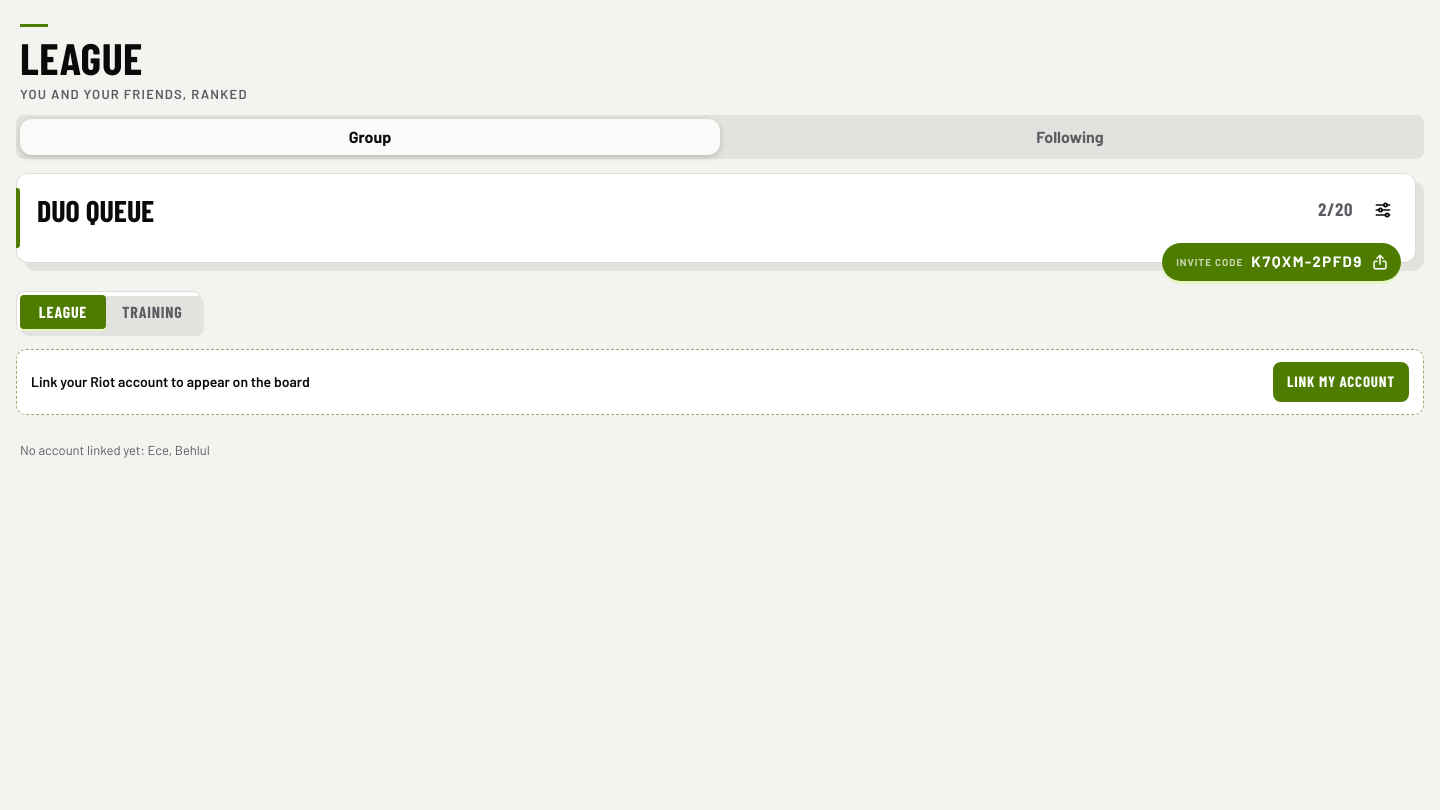
League tab › leaves as a member and stays on the group view, which offers to create or join again
Click the button named "Group settings" at (1383,210), box [1361,188,1405,232]
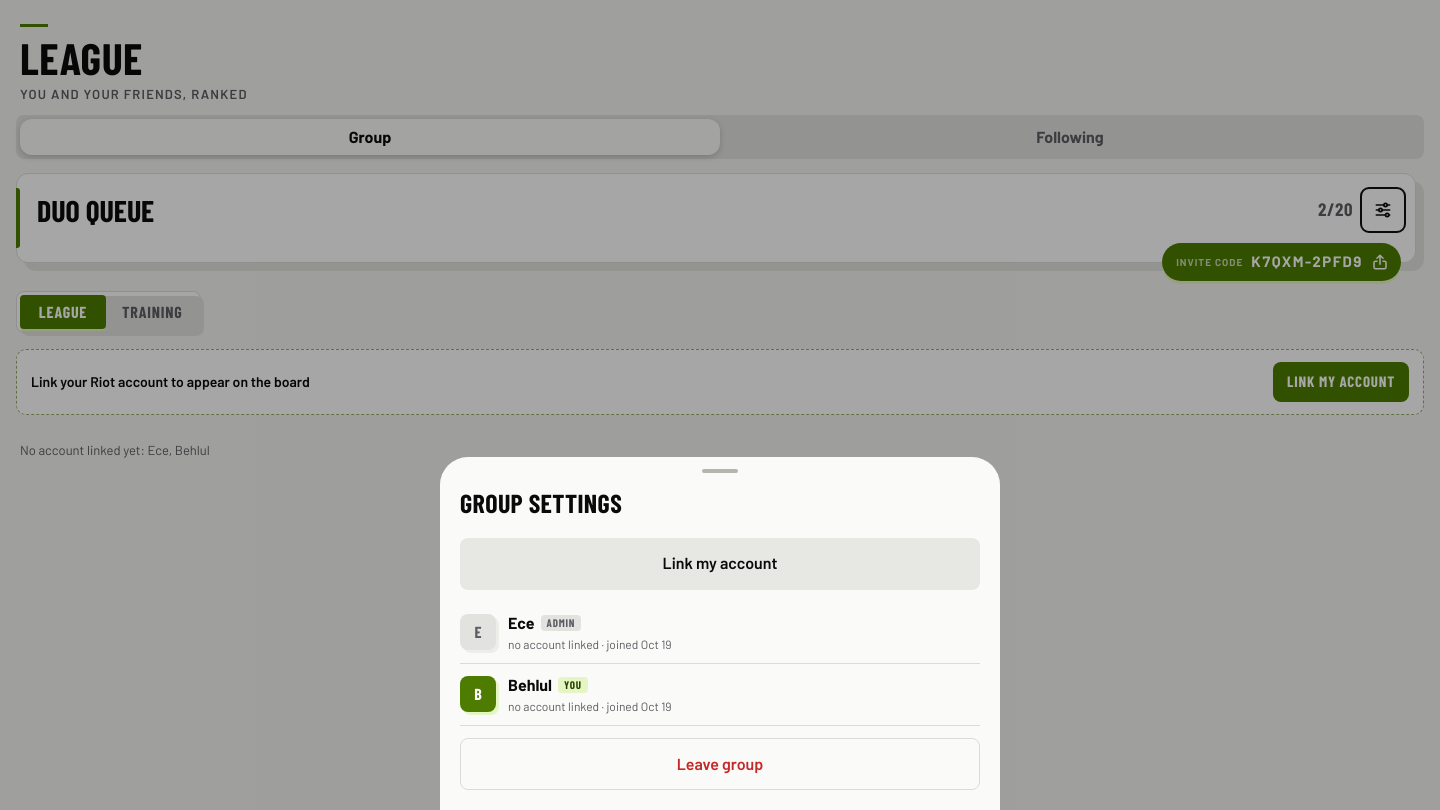
Click the button "Leave group" at (720,764), box [460,738,980,790]
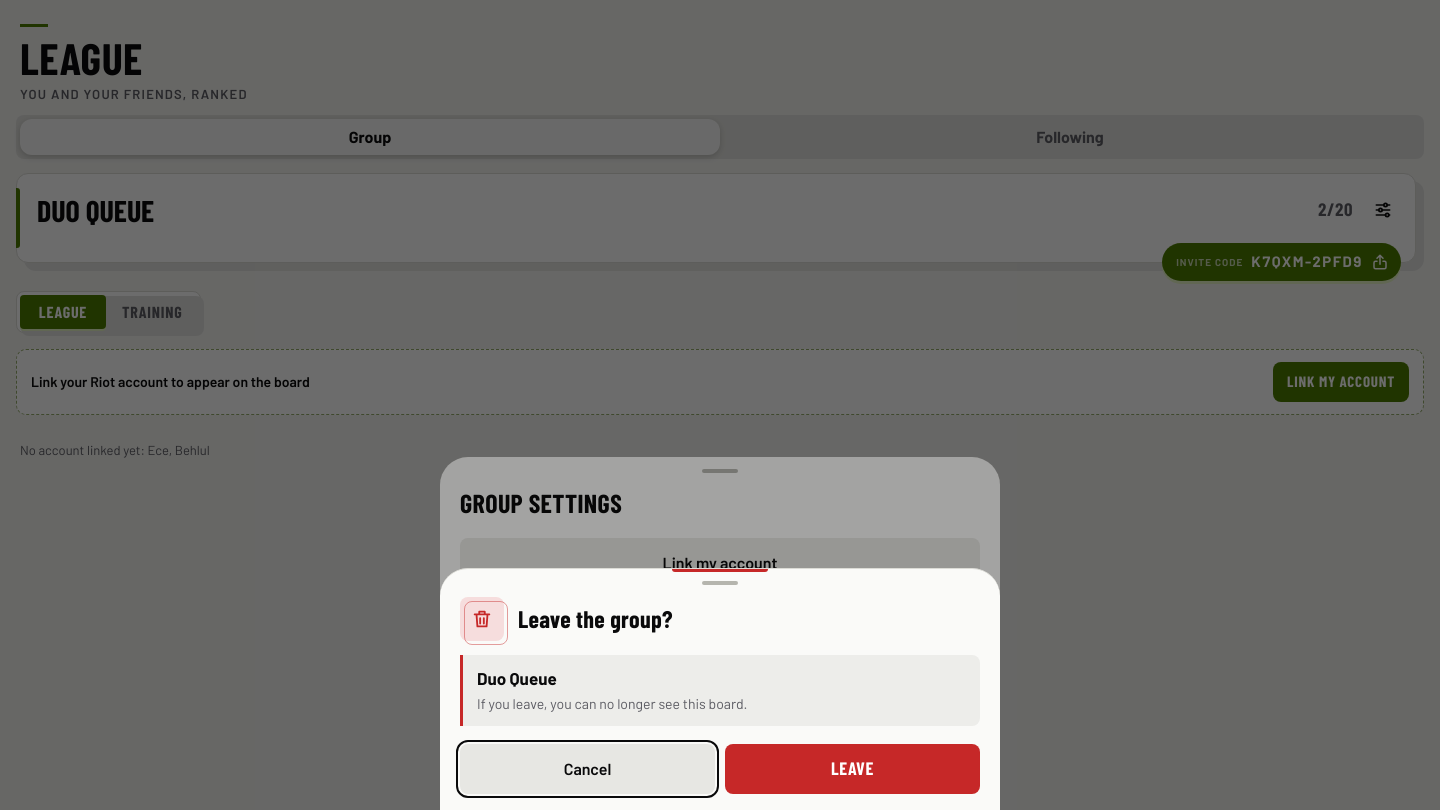
Expected: the dialog "Leave the group?" shows "If you leave, you can no longer see this board.", [477,695,748,712]
Click the button "Cancel" at (588,769), box [460,744,715,794]
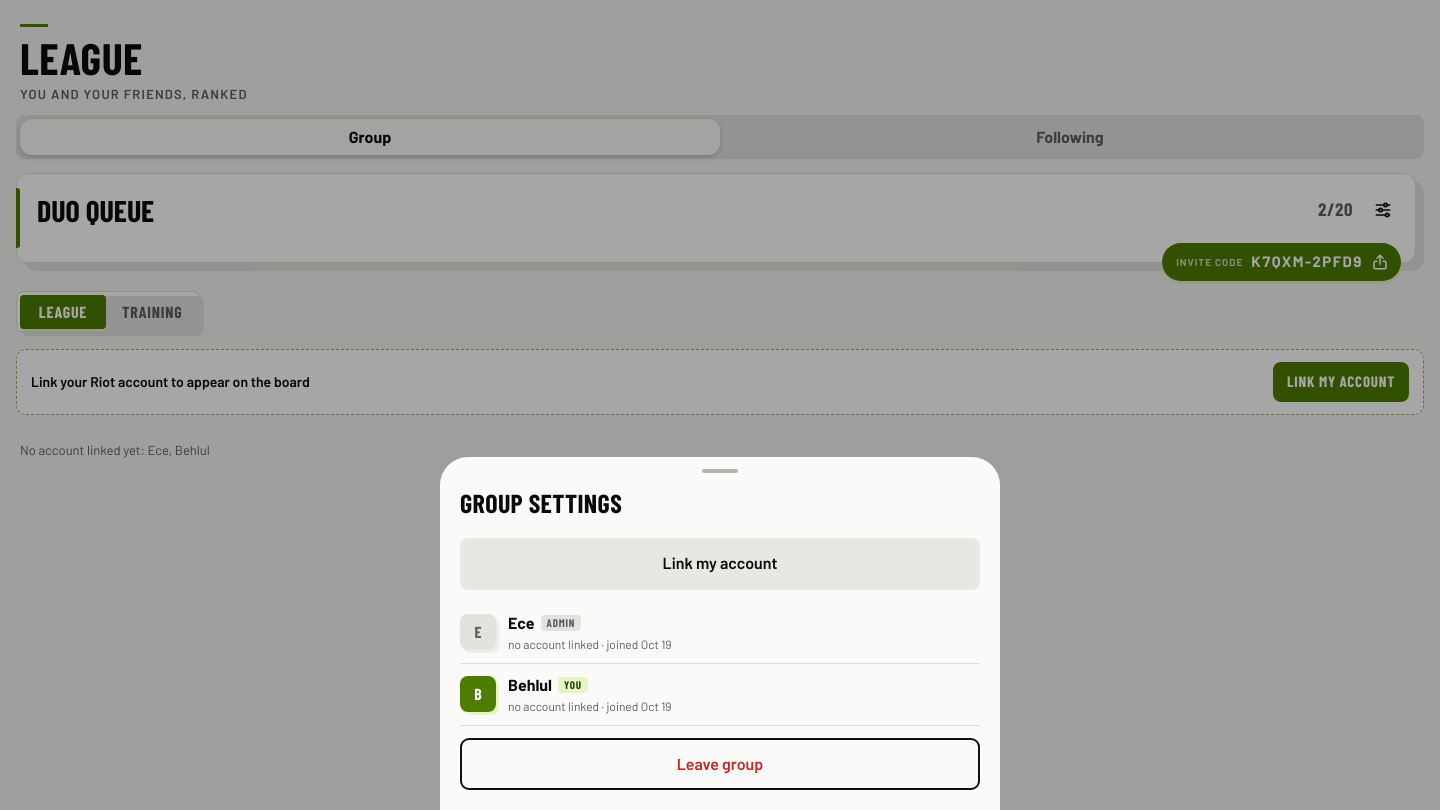
Expected: the dialog "Group settings" is shown, [440,457,1000,809]
Click the button "Leave group" at (720,764), box [460,738,980,790]
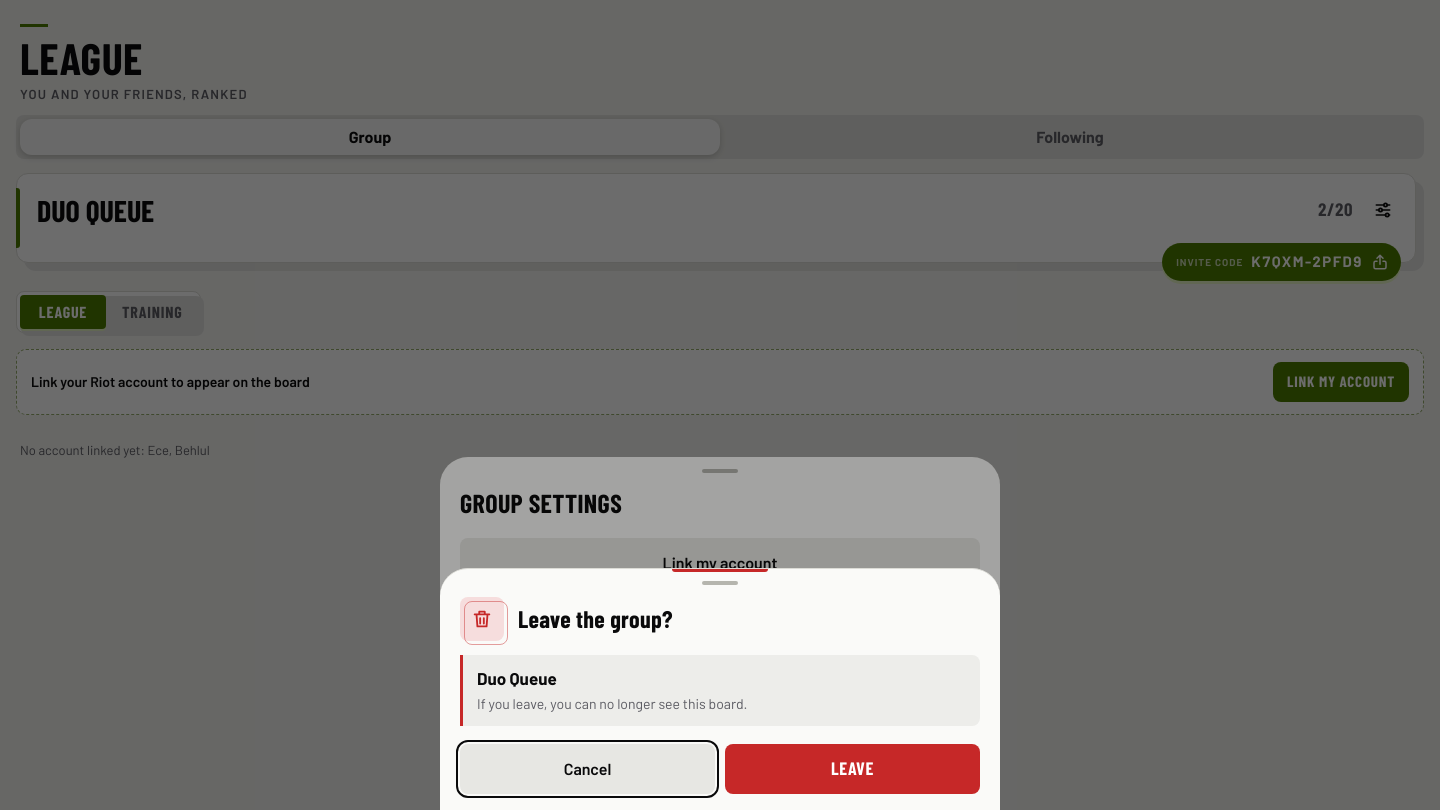
Click the button "Leave" at (852,769), box [725,744,980,794]
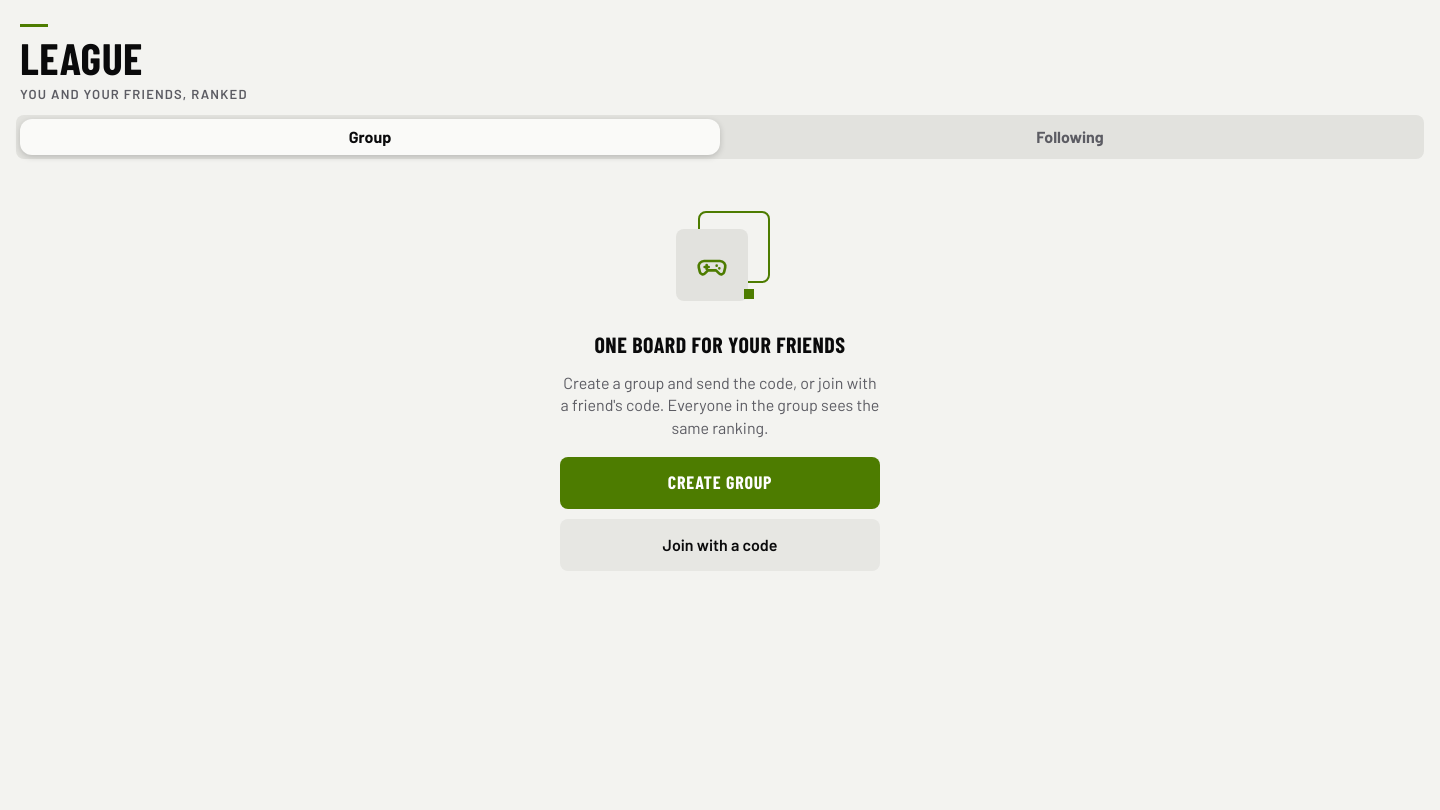
Expected: the heading "One board for your friends" is shown, [594,329,846,360]
Expected: the dialog is gone
